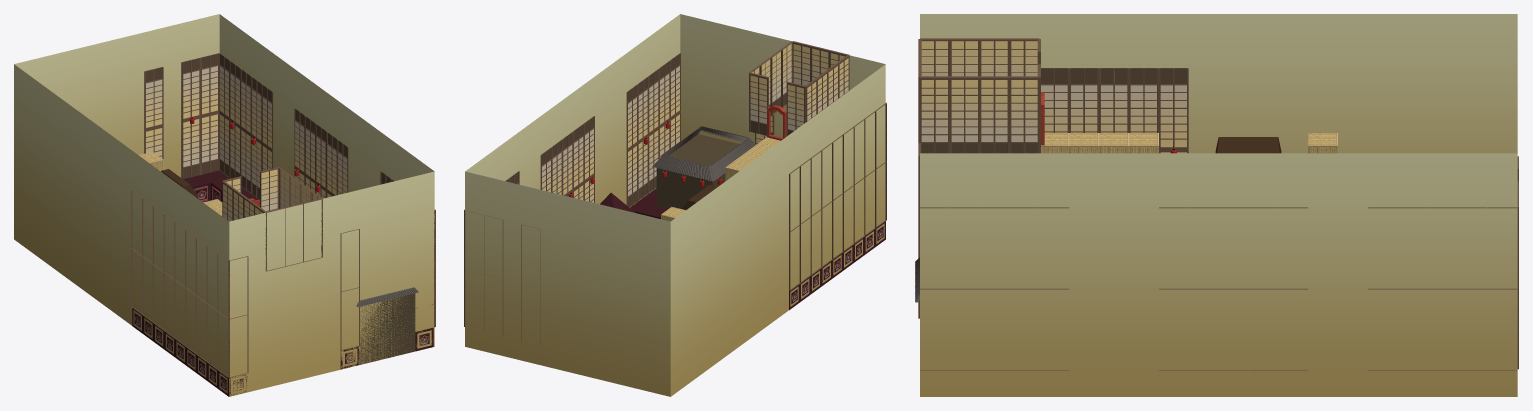
Rendered from Floor_2.2.fbx.
3 renders of one model, left to right at view 1: azimuth 30°, elevation 25°; view 2: azimuth 150°, elevation 25°; view 3: azimuth 270°, elevation 25°, orthographic. The views are drawn at different scales.
Parts seen in each view (by area): view 1: Walls_2_1, polySurface66, screenWall_013, screenWall_011, polySurface449, polySurface447, polySurface448, screenWall_010, polySurface461, polySurface436, polySurface433, polySurface434 (+13 smaller); view 2: Walls_2_1, polySurface66, screenWall_07, polySurface461, polySurface462, polySurface199, polySurface472, polySurface442, polySurface444, polySurface445, polySurface440, polySurface439 (+16 smaller); view 3: Walls_2_1, polySurface450, polySurface467, polySurface468, polySurface466, polySurface469, polySurface451, polySurface452, polySurface453, polySurface454, polySurface464, polySurface465 (+8 smaller).
Boxes of the visible parts, bbox=[...] form: Walls_2_1: bbox=[14, 14, 434, 396]; polySurface66: bbox=[359, 293, 415, 364]; screenWall_013: bbox=[181, 112, 219, 178]; screenWall_011: bbox=[229, 120, 251, 193]; polySurface449: bbox=[144, 67, 163, 130]; polySurface447: bbox=[200, 53, 219, 116]; polySurface448: bbox=[181, 58, 200, 120]; screenWall_010: bbox=[251, 135, 273, 199]; polySurface461: bbox=[260, 167, 279, 211]; polySurface436: bbox=[262, 84, 273, 150]; polySurface433: bbox=[229, 61, 240, 126]; polySurface434: bbox=[240, 69, 251, 134]; Walls_2_1: bbox=[465, 14, 885, 396]; polySurface66: bbox=[656, 134, 739, 208]; screenWall_07: bbox=[638, 127, 659, 201]; polySurface461: bbox=[749, 73, 768, 135]; polySurface462: bbox=[786, 81, 805, 136]; polySurface199: bbox=[652, 155, 713, 181]; polySurface472: bbox=[792, 41, 811, 85]; polySurface442: bbox=[626, 84, 637, 150]; polySurface444: bbox=[648, 69, 659, 134]; polySurface445: bbox=[659, 61, 670, 126]; polySurface440: bbox=[573, 124, 584, 189]; polySurface439: bbox=[562, 132, 573, 195]; Walls_2_1: bbox=[920, 14, 1517, 396]; polySurface450: bbox=[1159, 68, 1188, 149]; polySurface467: bbox=[979, 76, 1009, 153]; polySurface468: bbox=[949, 76, 979, 153]; polySurface466: bbox=[1009, 76, 1039, 153]; polySurface469: bbox=[920, 76, 949, 153]; polySurface451: bbox=[1129, 68, 1158, 132]; polySurface452: bbox=[1099, 68, 1128, 132]; polySurface453: bbox=[1069, 68, 1098, 132]; polySurface454: bbox=[1041, 68, 1069, 132]; polySurface464: bbox=[979, 38, 1009, 76]; polySurface465: bbox=[949, 38, 979, 76].
Bounding box in the file's own units: 22.33 × 18.15 × 40.43.
